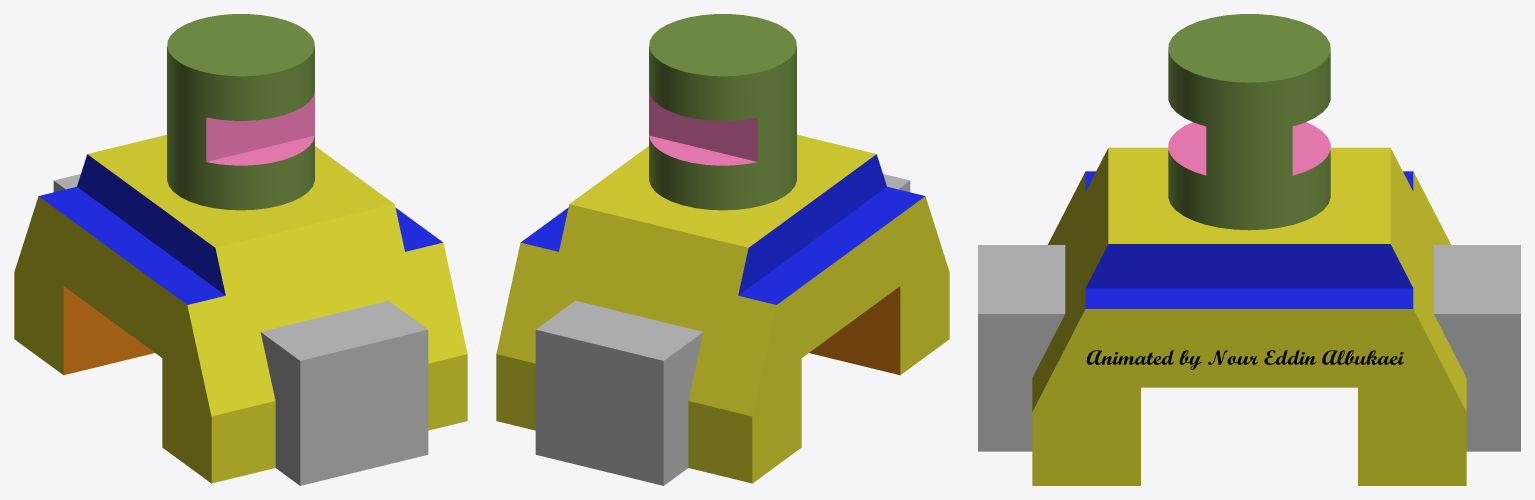
The picture shows the model from 3 angles, left to right: view 1: azimuth 30°, elevation 25°; view 2: azimuth 150°, elevation 25°; view 3: azimuth 270°, elevation 25°; orthographic projection. The views are drawn at different scales.
Visible parts, largest first — view 1: Solid4; view 2: Solid4; view 3: Solid4.
Part boxes in pixels (left/top/right/bottom): Solid4: left=14, top=14, right=467, bottom=485; Solid4: left=496, top=14, right=949, bottom=485; Solid4: left=978, top=14, right=1520, bottom=485.
Size of the model in its own units: 0.06 by 0.075 by 0.1.
